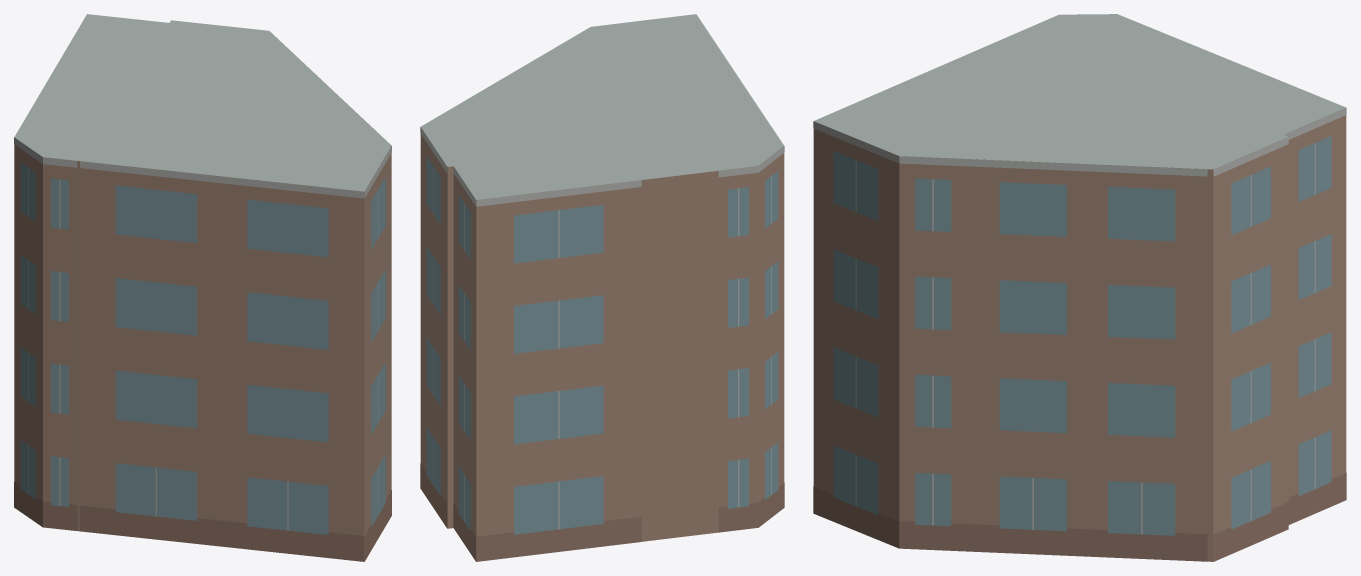
The model's file is survey-upis-32993117.glb.
3 views of the same model, side by side, from view 1: azimuth 30°, elevation 25°; view 2: azimuth 150°, elevation 25°; view 3: azimuth 270°, elevation 25° (orthographic). The views are drawn at different scales.
Visible parts, largest first — view 1: survey-upis-32993117.tmp; view 2: survey-upis-32993117.tmp; view 3: survey-upis-32993117.tmp.
Boxes of the visible parts, x1,y1,x2,y2 form: survey-upis-32993117.tmp: (14,14,391,561); survey-upis-32993117.tmp: (420,14,784,561); survey-upis-32993117.tmp: (813,14,1346,561).
Bounding box in the file's own units: 11.05 × 13 × 16.01.
